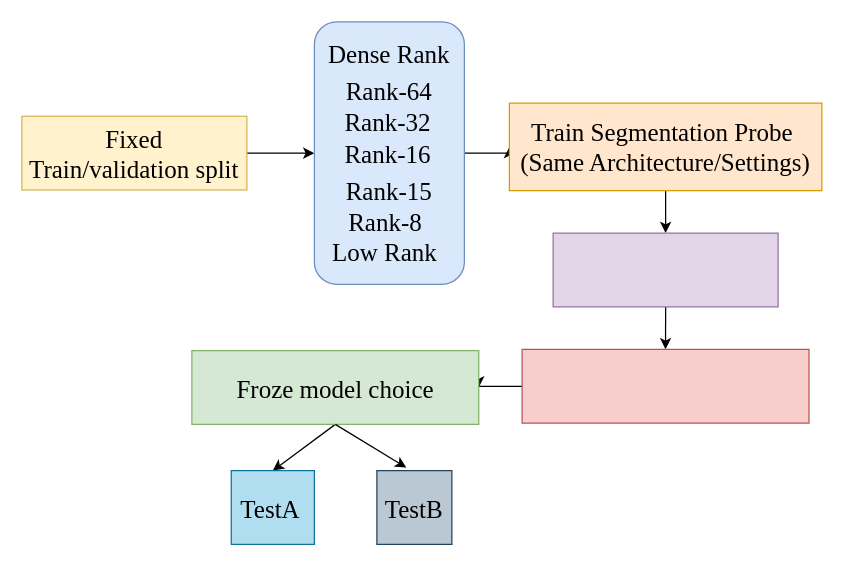
Image size: 844x566. Some labels were removed from this diagram. Each missing label, with the centre of its shape:
"Evaluate on Validation" goes at (665,269).
"Select rank using predefined validation rule" goes at (665,385).
